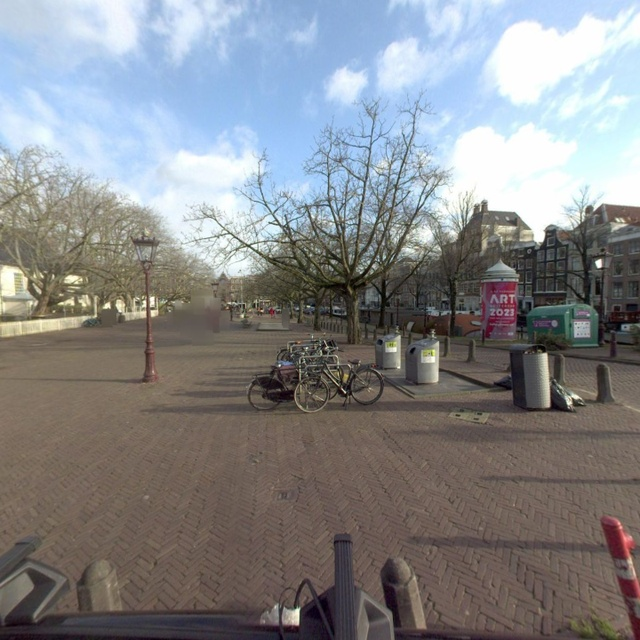Garbage Bags: (550, 379, 584, 411)
